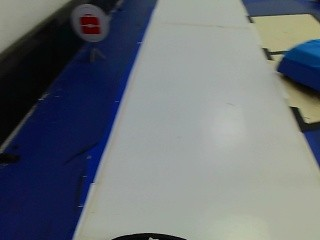company: (70, 5, 107, 44)
